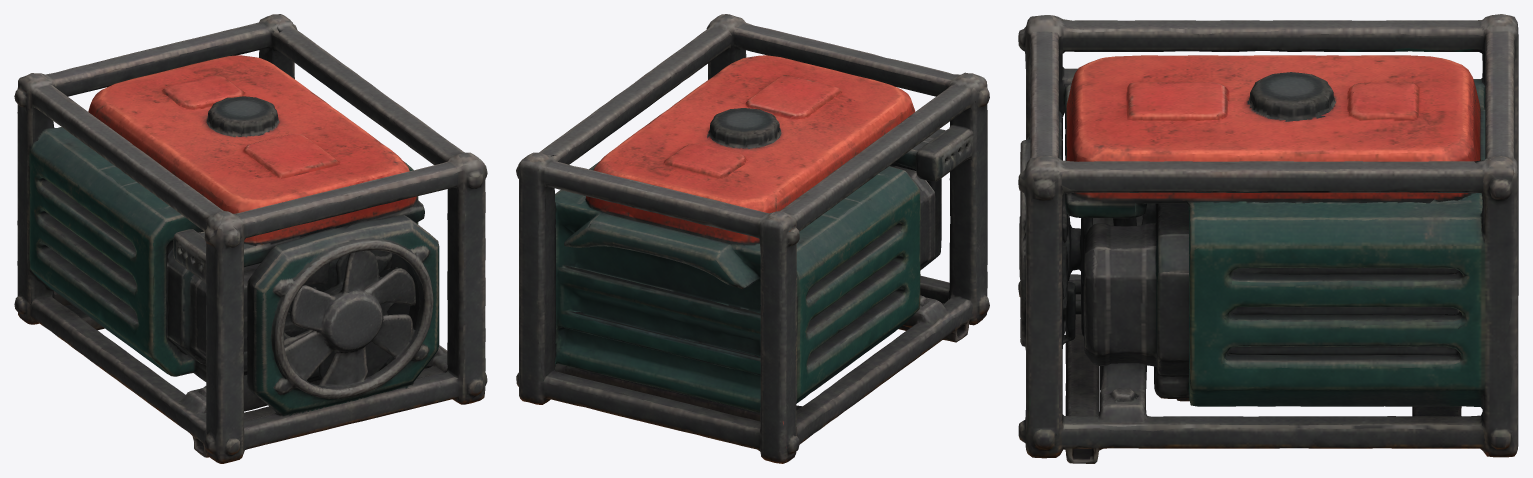
File: generator.glb
3 views of the same model, side by side, from view 1: azimuth 30°, elevation 25°; view 2: azimuth 150°, elevation 25°; view 3: azimuth 270°, elevation 25° (orthographic). The views are drawn at different scales.
Bounding box in the file's own units: 0.7841 × 0.676 × 1.01.
Materials: 1 (1 with a texture image).
